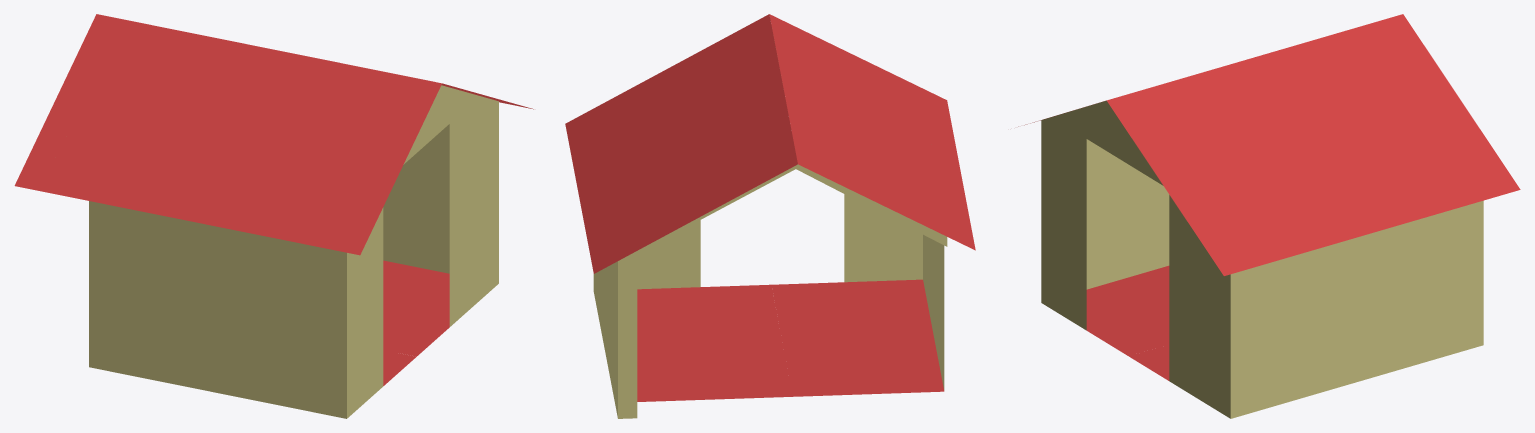
3 views of the same model, side by side, from view 1: azimuth 30°, elevation 25°; view 2: azimuth 150°, elevation 25°; view 3: azimuth 270°, elevation 25° (orthographic). The views are drawn at different scales.
Bounding box in the file's own units: 29.54 × 29.16 × 16.33.
